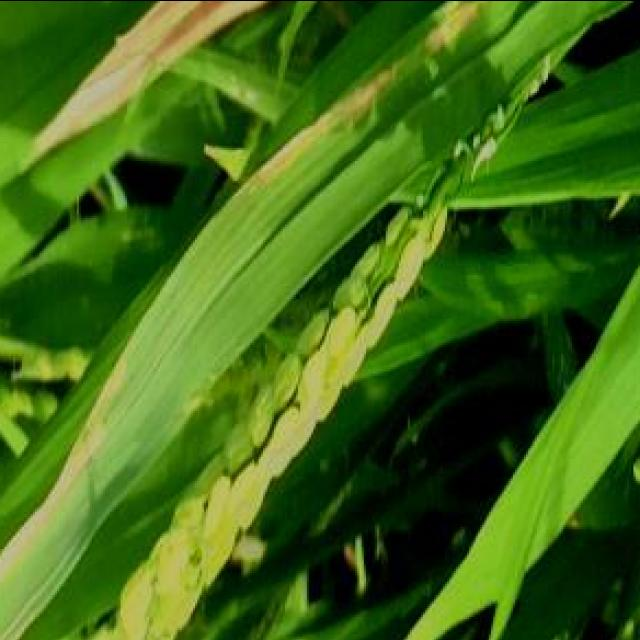Bacterial_Leaf_Blight: (358, 0, 500, 147)
